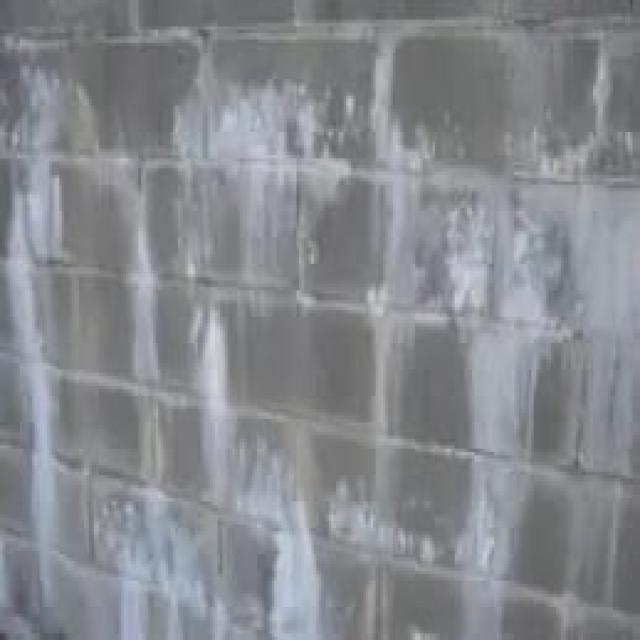stain_mould: (1, 13, 633, 639)
